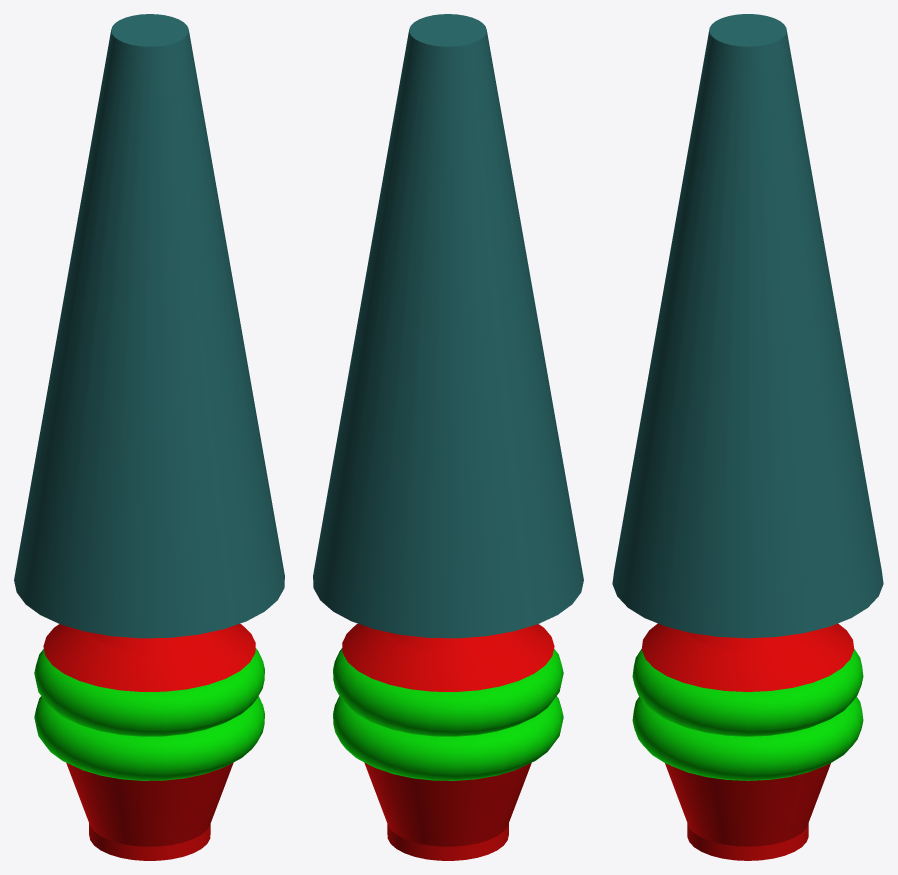
Rendered from SM_Lampadaire.fbx.
The picture shows the model from 3 angles, left to right: view 1: azimuth 30°, elevation 25°; view 2: azimuth 150°, elevation 25°; view 3: azimuth 270°, elevation 25°; orthographic projection.
Visible parts, largest first — view 1: pasted__pCylinder1; view 2: pasted__pCylinder1; view 3: pasted__pCylinder1.
Part boxes in pixels (<box>): pasted__pCylinder1: <box>14,14,284,860</box>; pasted__pCylinder1: <box>313,14,583,860</box>; pasted__pCylinder1: <box>612,14,883,860</box>.
Size of the model in its own units: 2.34 by 7.68 by 2.35.
